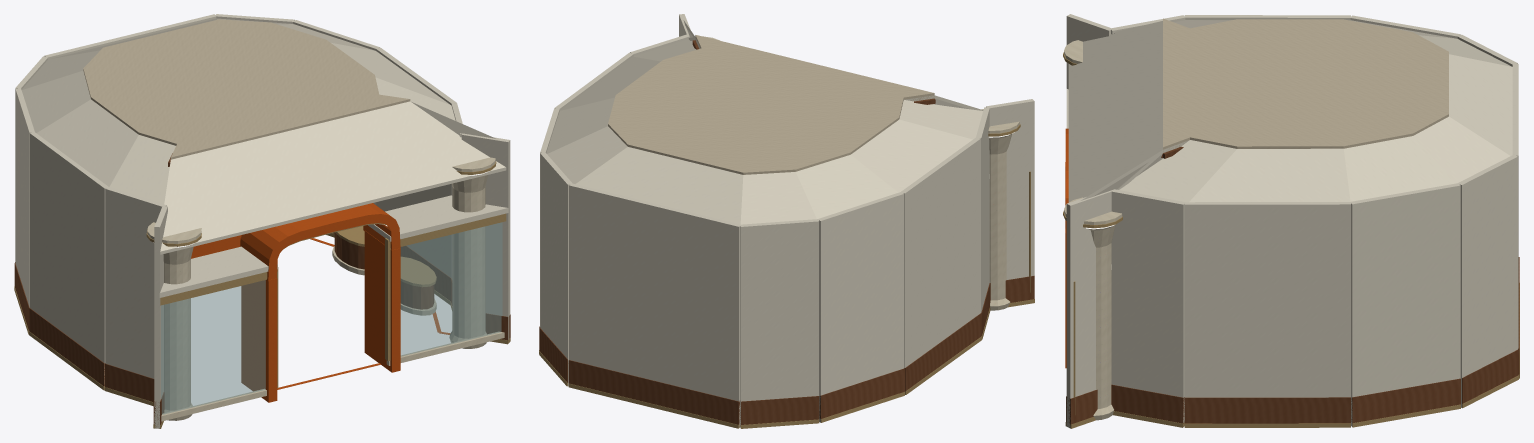
The model's file is AST-RTL-005.glb.
3 views of the same model, side by side, from view 1: azimuth 30°, elevation 25°; view 2: azimuth 150°, elevation 25°; view 3: azimuth 270°, elevation 25° (orthographic). The views are drawn at different scales.
Parts seen in each view (by area): view 1: CUR_RaisedCeiling, CUR_CeilingSoffit_11, CUR_Wall_02, CUR_FrontGlass_-1, CUR_FrontGlass_1, CUR_Wall_01, CUR_StreetColumn_1, CUR_CeilingSoffit_02, CUR_StreetColumn_-1, CUR_Wall_10, CUR_PortalJamb_-1, CUR_OrangePortalArch (+27 smaller); view 2: CUR_Wall_05, CUR_RaisedCeiling, CUR_Wall_03, CUR_Wall_04, CUR_Wall_02, CUR_CeilingSoffit_05, CUR_Wall_06, CUR_Wall_00, CUR_CeilingSoffit_02, CUR_Dado_05, CUR_CeilingSoffit_03, CUR_StreetColumn_-1 (+15 smaller); view 3: CUR_RaisedCeiling, CUR_Wall_08, CUR_Wall_07, CUR_Wall_09, CUR_CeilingSoffit_11, CUR_Wall_06, CUR_CeilingSoffit_08, CUR_Wall_10, CUR_CeilingSoffit_05, CUR_CeilingSoffit_07, CUR_Dado_08, CUR_CeilingSoffit_09 (+14 smaller).
Part boxes in pixels (x1,y1,x2,y2): CUR_RaisedCeiling: (83, 19, 410, 159); CUR_CeilingSoffit_11: (160, 101, 506, 254); CUR_Wall_02: (30, 132, 108, 383); CUR_FrontGlass_-1: (161, 280, 265, 414); CUR_FrontGlass_1: (400, 222, 502, 356); CUR_Wall_01: (105, 187, 166, 378); CUR_StreetColumn_1: (449, 157, 495, 348); CUR_CeilingSoffit_02: (36, 99, 138, 186); CUR_StreetColumn_-1: (147, 222, 201, 420); CUR_Wall_10: (461, 133, 510, 339); CUR_PortalJamb_-1: (241, 278, 277, 402); CUR_OrangePortalArch: (240, 203, 400, 280); CUR_Wall_05: (569, 183, 741, 427); CUR_RaisedCeiling: (608, 35, 934, 174); CUR_Wall_03: (817, 192, 904, 422); CUR_Wall_04: (740, 219, 819, 427); CUR_Wall_02: (901, 137, 980, 367); CUR_CeilingSoffit_05: (575, 147, 743, 224); CUR_Wall_06: (540, 152, 572, 386); CUR_Wall_00: (986, 99, 1034, 279); CUR_CeilingSoffit_02: (851, 119, 972, 192); CUR_Dado_05: (568, 360, 740, 424); CUR_CeilingSoffit_03: (796, 154, 898, 218); CUR_StreetColumn_-1: (981, 109, 1019, 310); CUR_RaisedCeiling: (1163, 18, 1448, 152); CUR_Wall_08: (1184, 202, 1350, 397); CUR_Wall_07: (1350, 183, 1460, 426); CUR_Wall_09: (1110, 189, 1185, 422); CUR_CeilingSoffit_11: (1068, 21, 1162, 202); CUR_Wall_06: (1457, 155, 1517, 407); CUR_CeilingSoffit_08: (1189, 148, 1350, 202); CUR_Wall_10: (1066, 190, 1111, 427); CUR_CeilingSoffit_05: (1449, 54, 1512, 155); CUR_CeilingSoffit_07: (1344, 136, 1455, 201); CUR_Dado_08: (1184, 397, 1350, 423); CUR_CeilingSoffit_09: (1119, 140, 1236, 202).
Bounding box in the file's own units: 11.77 × 7.12 × 11.8.
8 materials, 6 textured.
